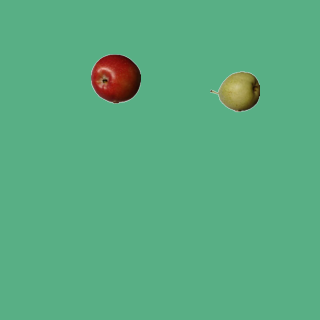Apple Braeburn: (90, 53, 140, 103)
Pear: (209, 66, 259, 116)
